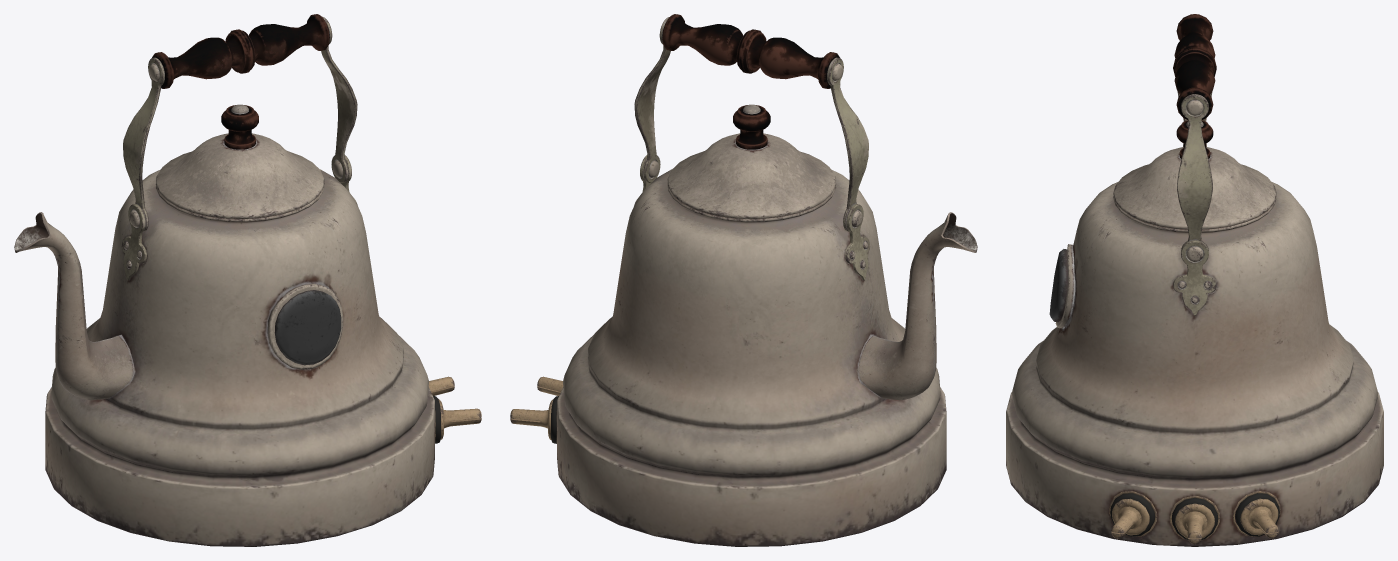
File: ph_vintage_electric_kettle.glb
3 renders of one model, left to right at view 1: azimuth 30°, elevation 25°; view 2: azimuth 150°, elevation 25°; view 3: azimuth 270°, elevation 25°, orthographic. The views are drawn at different scales.
Parts seen in each view (by area): view 1: ph_vintage_electric_kettle; view 2: ph_vintage_electric_kettle; view 3: ph_vintage_electric_kettle.
Boxes of the visible parts, x1,y1,x2,y2 form: ph_vintage_electric_kettle: (14, 14, 481, 546); ph_vintage_electric_kettle: (510, 14, 977, 546); ph_vintage_electric_kettle: (1006, 14, 1383, 546).
Bounding box in the file's own units: 0.3209 × 0.3047 × 0.2486.
Materials: 2 (2 with a texture image).
